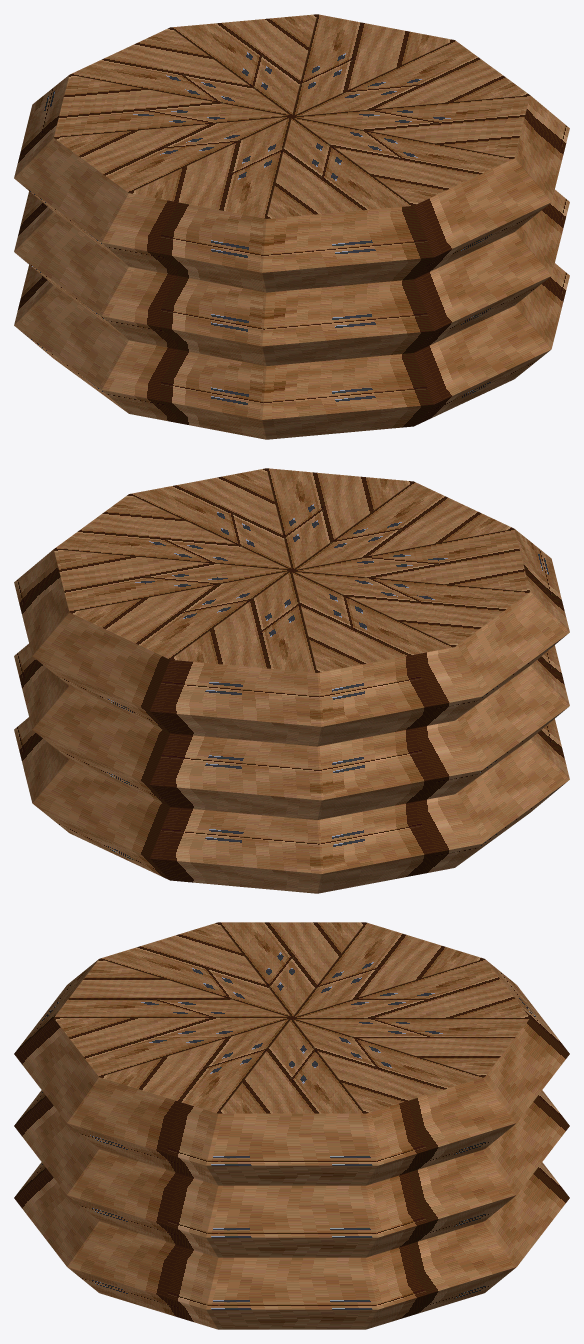
Rendered from armadilha_de_corda.glb.
3 views of the same model, one above another, from view 1: azimuth 30°, elevation 25°; view 2: azimuth 150°, elevation 25°; view 3: azimuth 270°, elevation 25° (orthographic). The views are drawn at different scales.
Parts seen in each view (by area): view 1: armadilha_de_corda; view 2: armadilha_de_corda; view 3: armadilha_de_corda.
Boxes of the visible parts, left/top/right/bottom form: armadilha_de_corda: left=14, top=14, right=569, bottom=439; armadilha_de_corda: left=14, top=468, right=569, bottom=893; armadilha_de_corda: left=14, top=922, right=569, bottom=1329.
Size of the model in its own units: 0.3994 by 0.18 by 0.42.
Materials: 1 (1 with a texture image).
